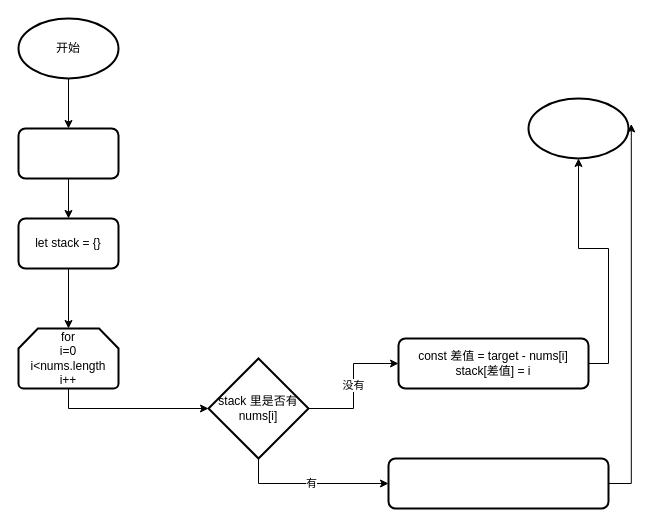
Image size: 657x526. Some labels were removed from this diagram. Each missing label, with the box of its shape:
nums、target: (17, 127, 119, 179)
return [stack[nums[i]],i]: (387, 457, 609, 509)
结束: (527, 97, 629, 159)
